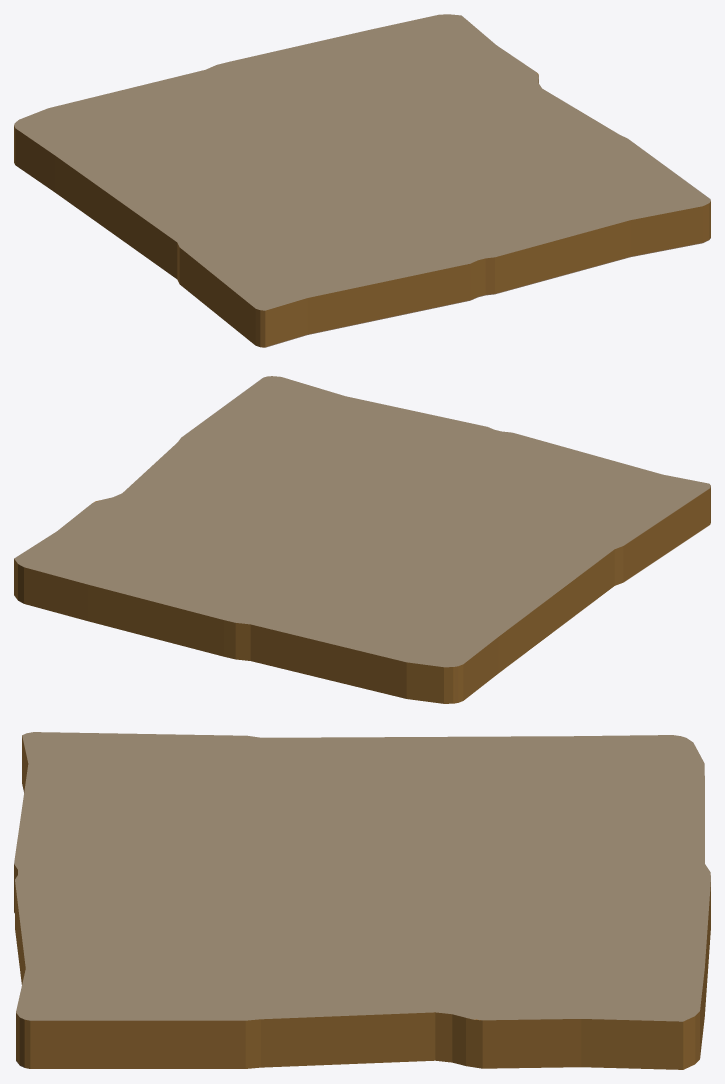
The model's file is multigrainflipanim.fbx.
3 renders of one model, top to bottom at view 1: azimuth 30°, elevation 25°; view 2: azimuth 150°, elevation 25°; view 3: azimuth 270°, elevation 25°, orthographic. The views are drawn at different scales.
Parts seen in each view (by area): view 1: multigrainbread; view 2: multigrainbread; view 3: multigrainbread.
Boxes of the visible parts, x1,y1,x2,y2 form: multigrainbread: [14, 14, 710, 347]; multigrainbread: [14, 376, 710, 703]; multigrainbread: [14, 732, 710, 1069].
Size of the model in its own units: 198 by 15.44 by 202.
